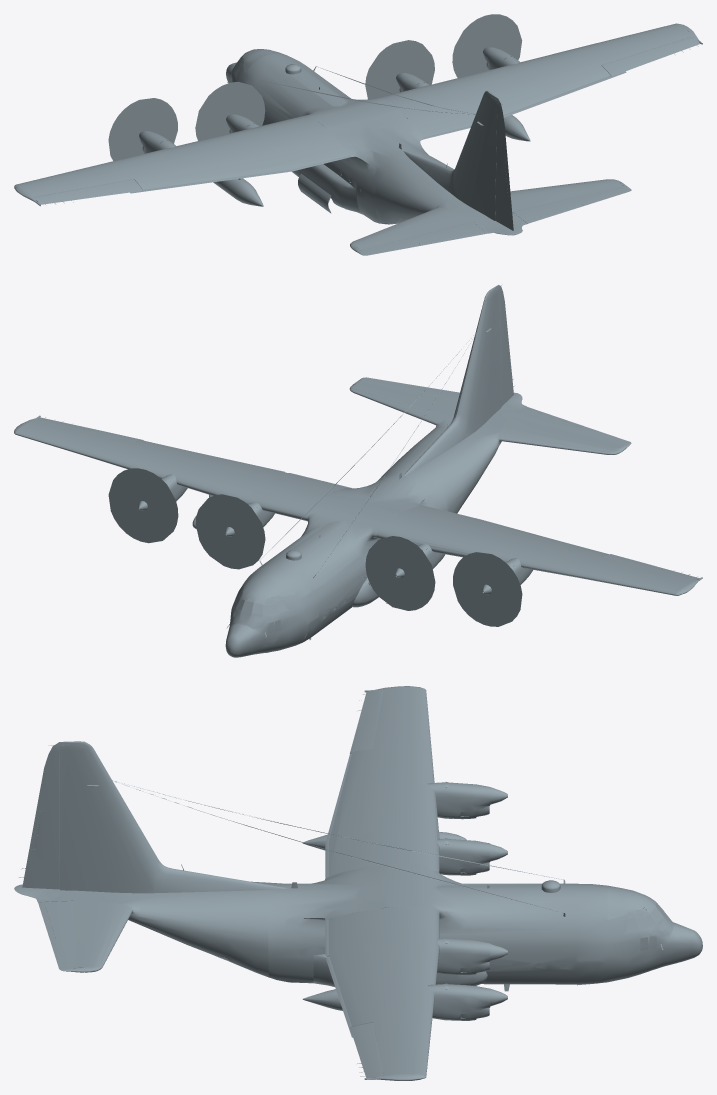
File: model-aircraft-tp-1.glb
3 views of the same model, one above another, from view 1: azimuth 30°, elevation 25°; view 2: azimuth 150°, elevation 25°; view 3: azimuth 270°, elevation 25° (orthographic). The views are drawn at different scales.
Bounding box in the file's own units: 48.06 × 13.56 × 35.58.
